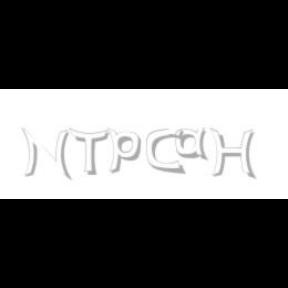C: (146, 128, 183, 174)
H: (210, 128, 256, 180)
N: (20, 128, 70, 180)
T: (69, 128, 109, 176)
a: (176, 128, 213, 160)
p: (108, 128, 144, 174)
